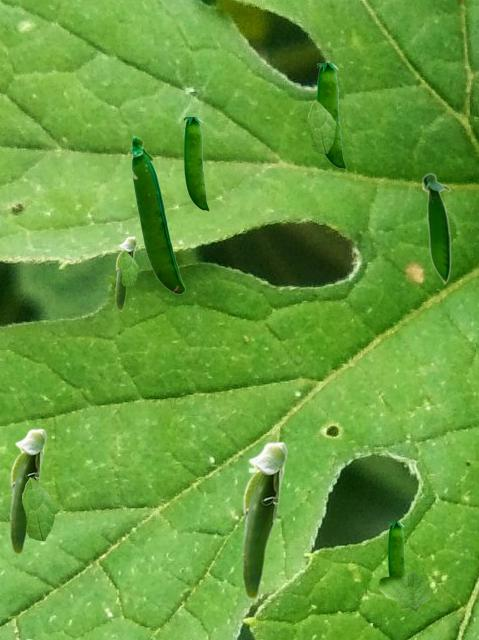pea: (130, 135, 184, 293), (241, 441, 287, 599), (9, 428, 46, 554), (421, 172, 450, 285), (317, 63, 345, 169), (184, 117, 208, 211), (115, 236, 136, 310), (388, 522, 406, 581)
